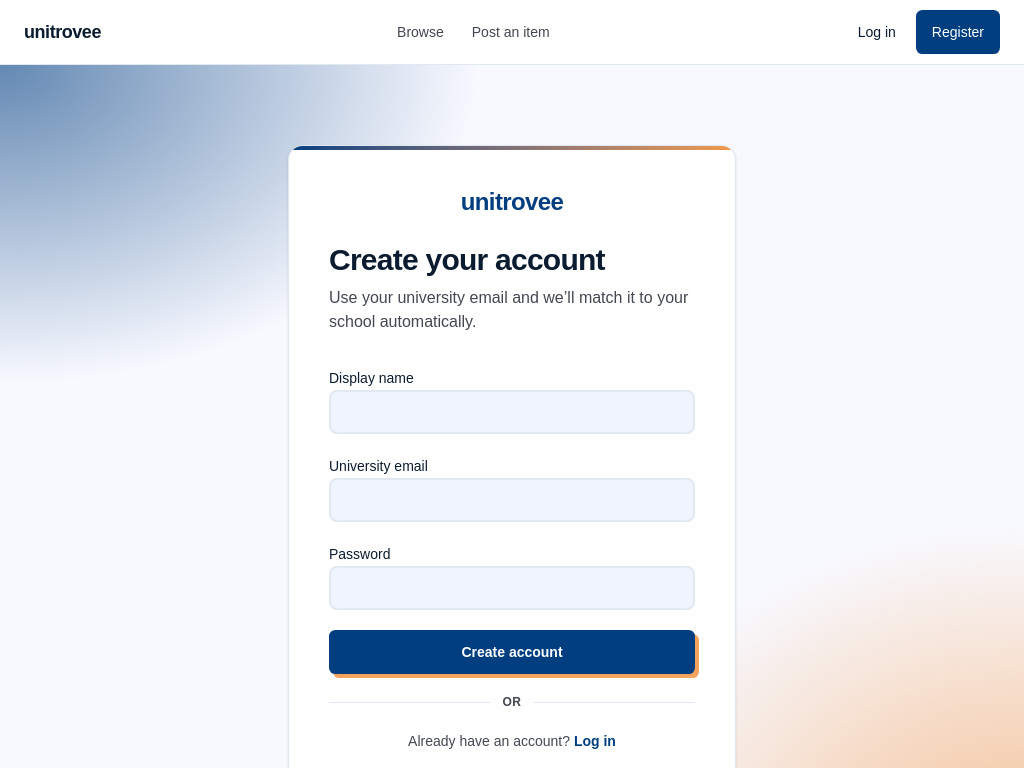
Test: RegisterPage › shows a required error when university email is empty
Type "Aoife Murphy" into the field labelled "Display name" at (512, 412), box [329,390,695,434]
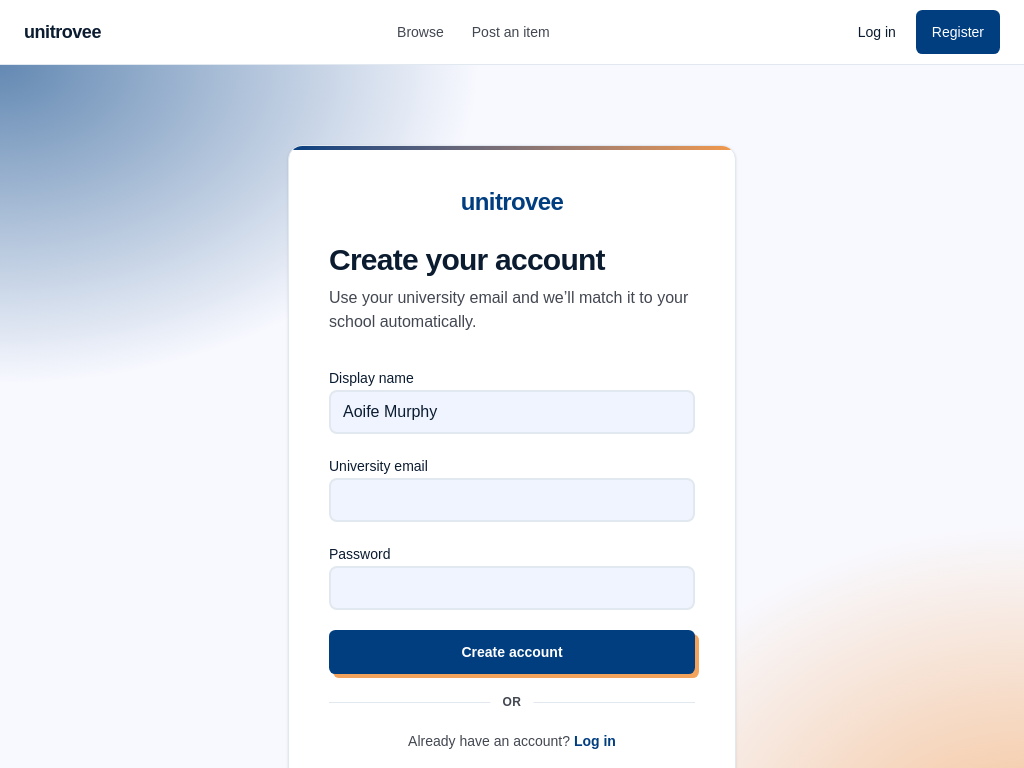
Click the button "Create account" at (512, 652), box [329,630,695,674]
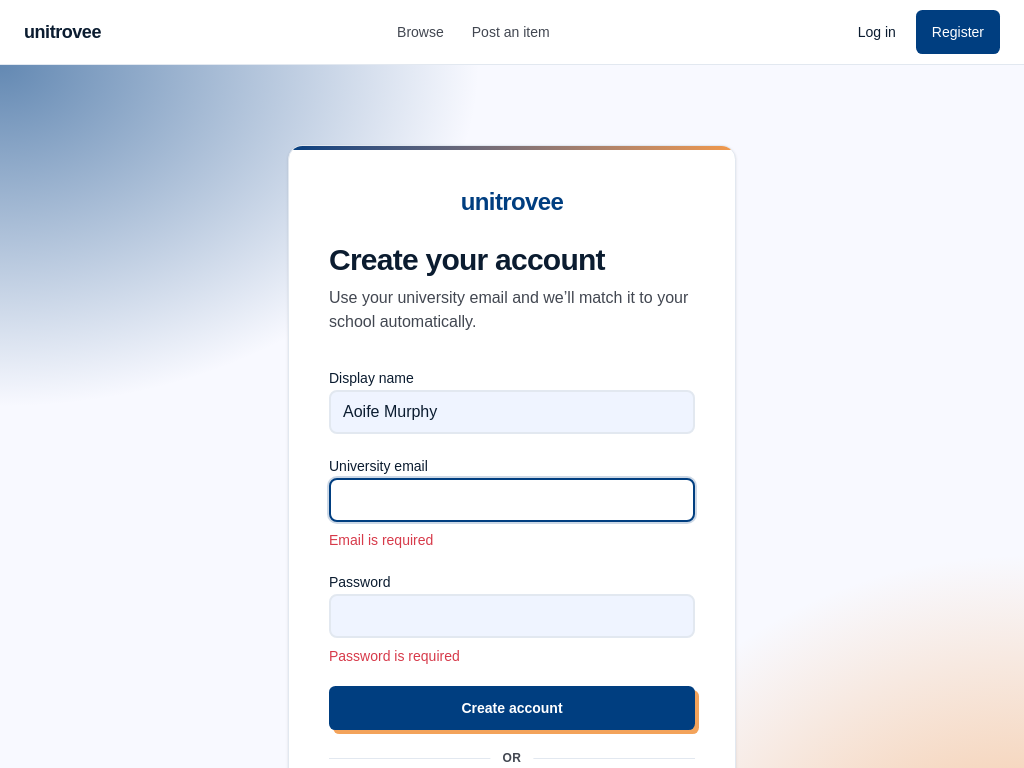
Check: the text "Email is required" is shown, box [329,532,433,548]
